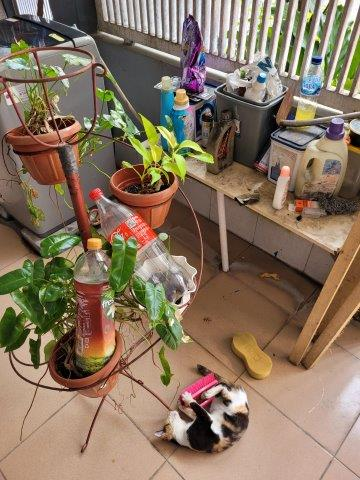botolplastik: (92, 191, 193, 304), (76, 240, 115, 369), (298, 57, 321, 123)
